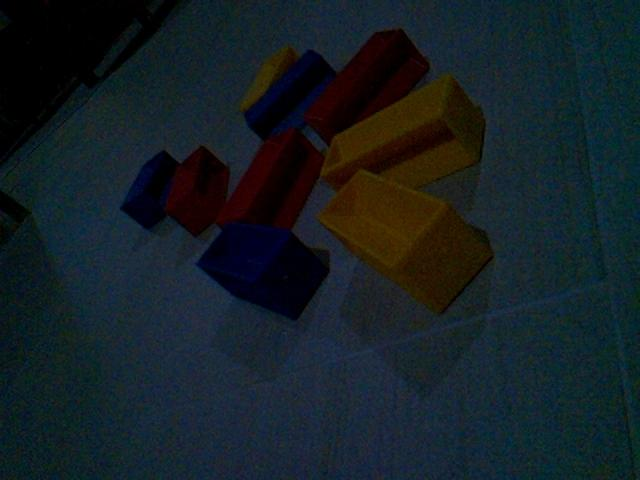blue: (195, 219, 332, 322), (242, 47, 337, 141), (119, 148, 181, 232)
red: (304, 26, 431, 143), (216, 127, 323, 231), (164, 144, 231, 237)
yellow: (316, 168, 495, 316), (319, 72, 487, 191), (237, 44, 300, 114)
